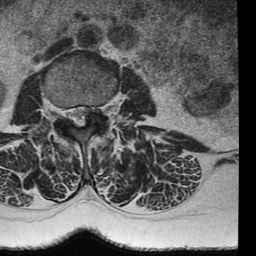CCS_normal: (75, 93, 83, 136)
LFS_stenosis: (91, 92, 100, 125)
LLS_stenosis: (83, 93, 92, 127)
RFS_normal: (58, 95, 67, 131)
RLS_normal: (67, 96, 75, 129)
